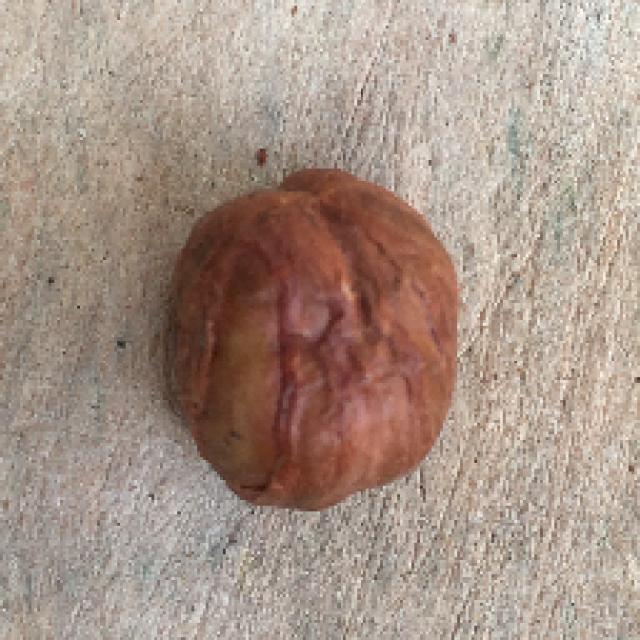hazelnut: (152, 165, 467, 516)
